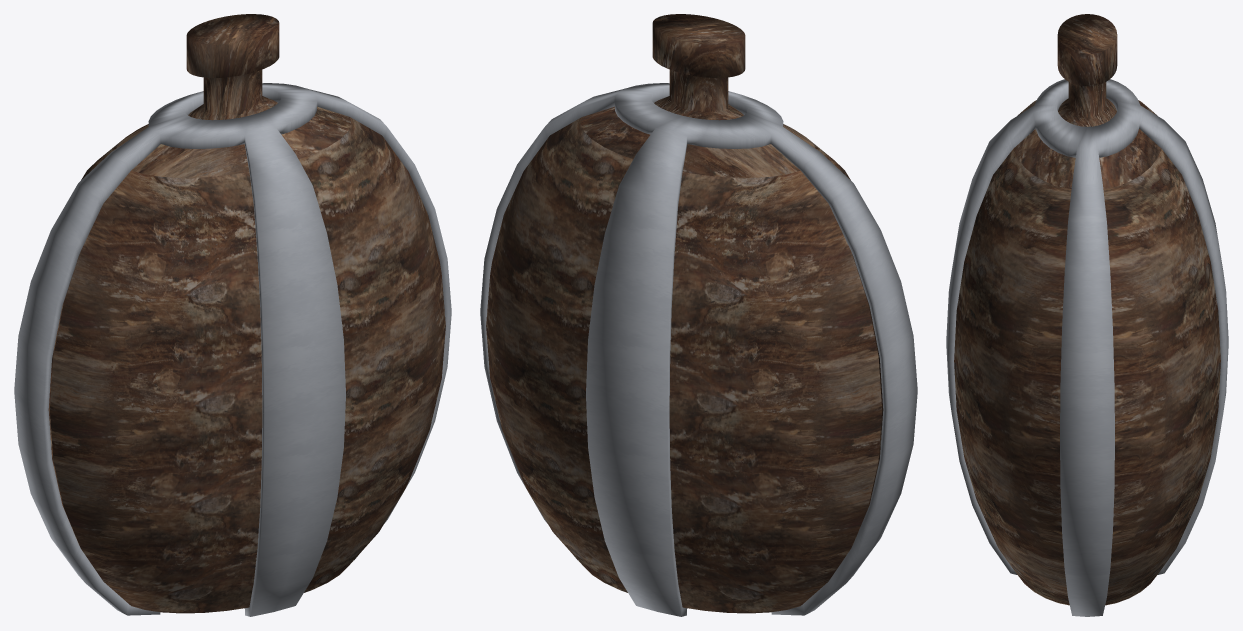
File: Amazonie_Gourde.fbx
3 renders of one model, left to right at view 1: azimuth 30°, elevation 25°; view 2: azimuth 150°, elevation 25°; view 3: azimuth 270°, elevation 25°, orthographic. The views are drawn at different scales.
Visible parts, largest first — view 1: Sphere, Sphere.001; view 2: Sphere, Sphere.001; view 3: Sphere, Sphere.001.
Boxes of the visible parts, bbox=[...] form: Sphere: bbox=[48, 14, 445, 613]; Sphere.001: bbox=[14, 83, 451, 616]; Sphere: bbox=[486, 14, 883, 613]; Sphere.001: bbox=[480, 83, 917, 616]; Sphere: bbox=[954, 14, 1220, 605]; Sphere.001: bbox=[946, 79, 1228, 616].
Size of the model in its own units: 338 by 437 by 207.
